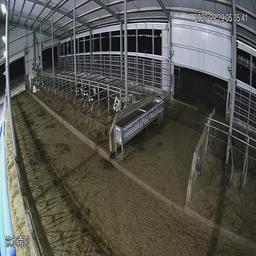cow: (109, 90, 127, 111), (81, 85, 95, 101)
